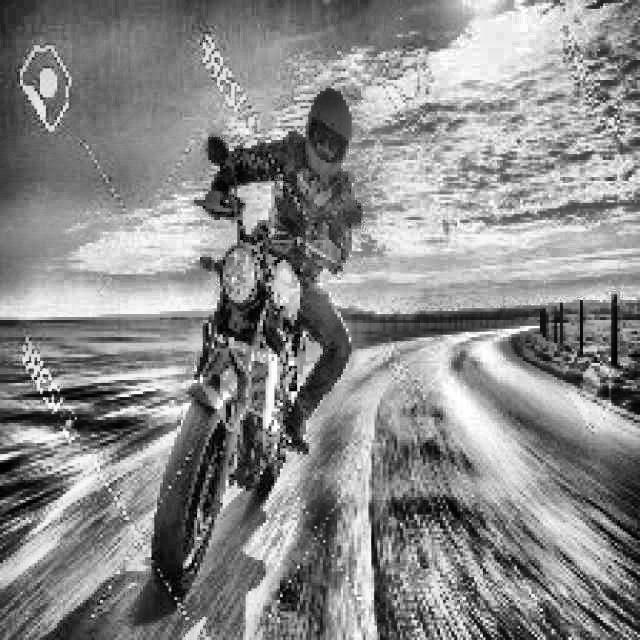motorcycle: (143, 109, 377, 609)
